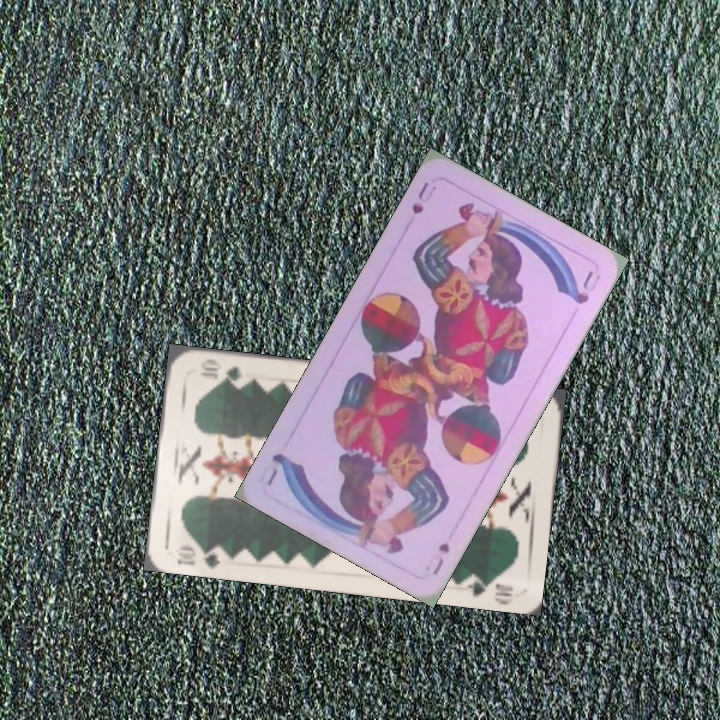G10: (171, 541, 229, 570)
SU: (407, 177, 439, 218), (428, 538, 452, 578)
